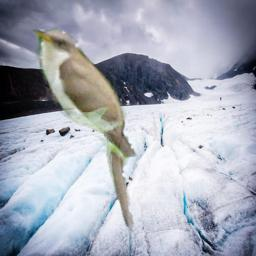Cuckoo: (25, 23, 139, 236)
